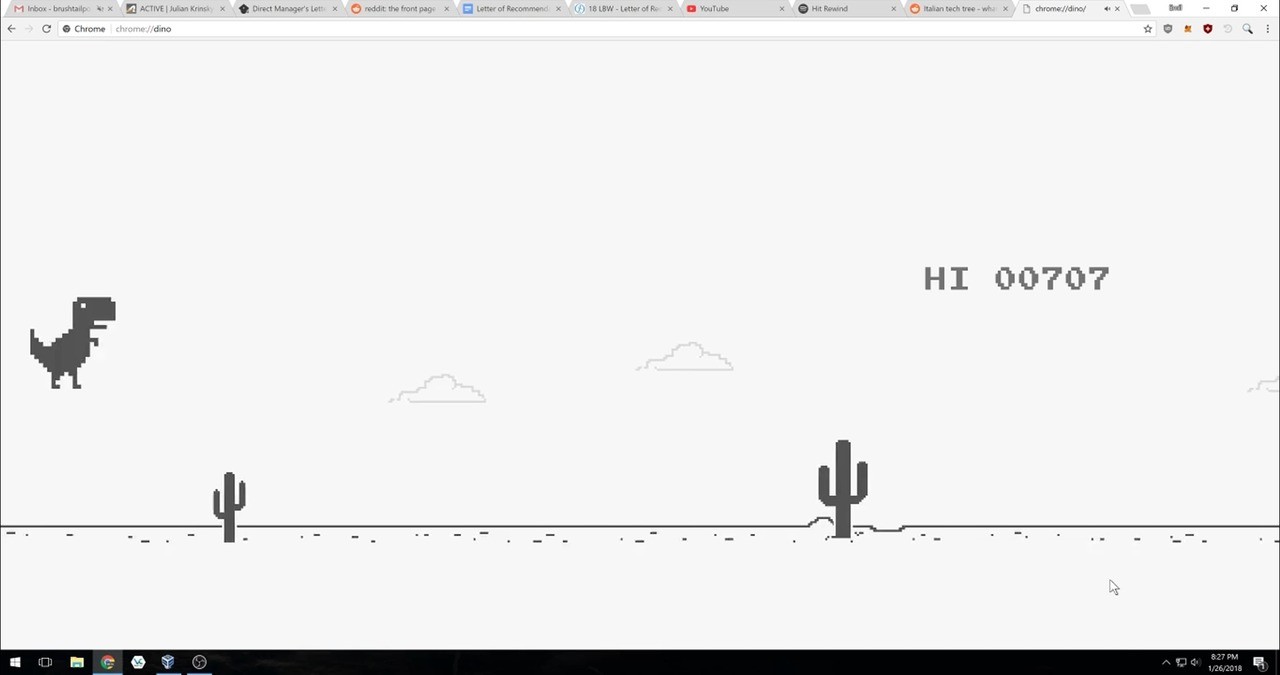cactus: (815, 435, 872, 543), (209, 465, 251, 548)
dinosaur: (27, 293, 119, 392)
